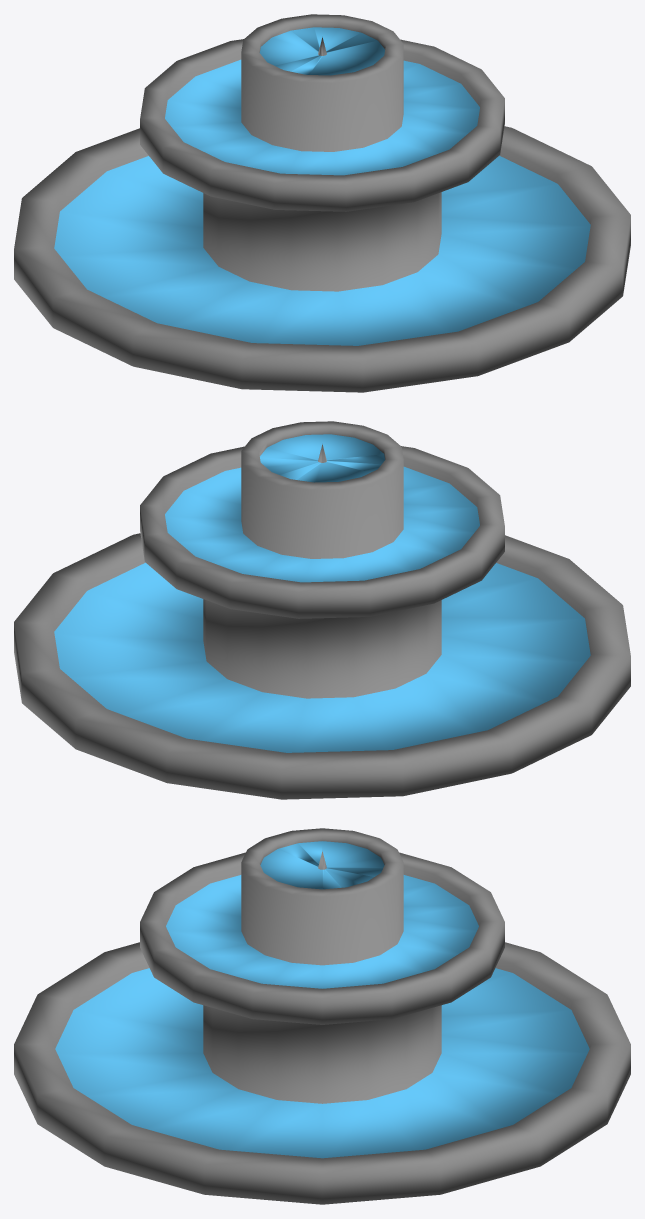
Rendered from fountain.fbx.
3 views of the same model, one above another, from view 1: azimuth 30°, elevation 25°; view 2: azimuth 150°, elevation 25°; view 3: azimuth 270°, elevation 25° (orthographic).
Parts seen in each view (by area): view 1: Fountain; view 2: Fountain; view 3: Fountain.
Part boxes in pixels (x1,y1,x2,y2): Fountain: (14,14,630,392); Fountain: (14,421,630,799); Fountain: (14,828,630,1204).
Size of the model in its own units: 1043 by 417 by 1043.
